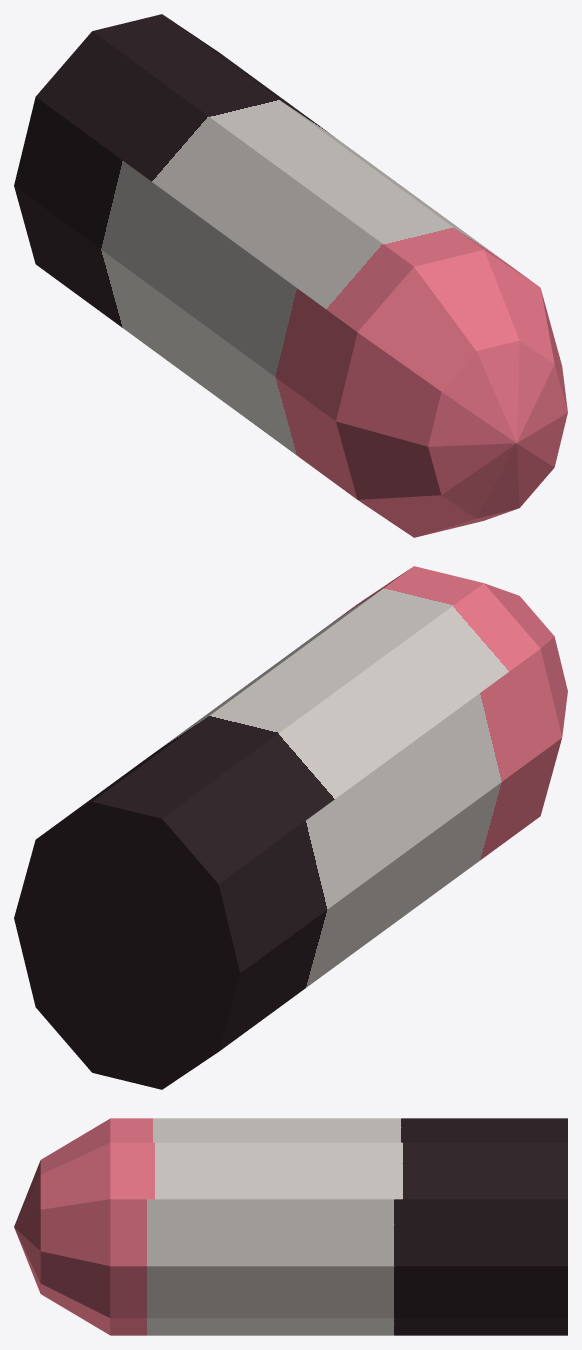
File: MiniRocket.gltf
The picture shows the model from 3 angles, top to bottom: view 1: azimuth 30°, elevation 25°; view 2: azimuth 150°, elevation 25°; view 3: azimuth 270°, elevation 25°; orthographic projection. The views are drawn at different scales.
Visible parts, largest first — view 1: sphere; view 2: sphere; view 3: sphere.
Part boxes in pixels (x1,y1,x2,y2): sphere: (14,14,567,537); sphere: (14,566,567,1089); sphere: (14,1118,567,1335).
Bounding box in the file's own units: 0.0938 × 0.1073 × 0.2795.
1 material, 1 textured.
